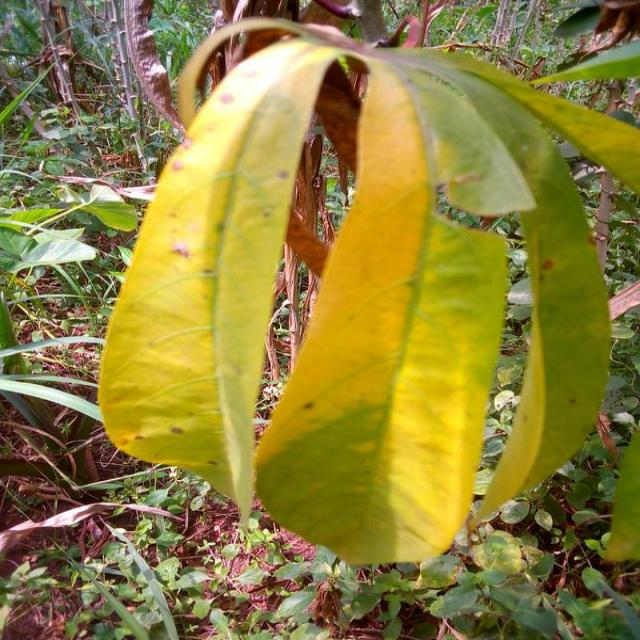cassava leaf: (97, 22, 628, 568), (252, 51, 515, 568), (97, 33, 346, 528)
